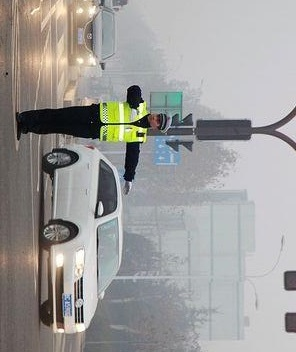person: (16, 84, 172, 195)
